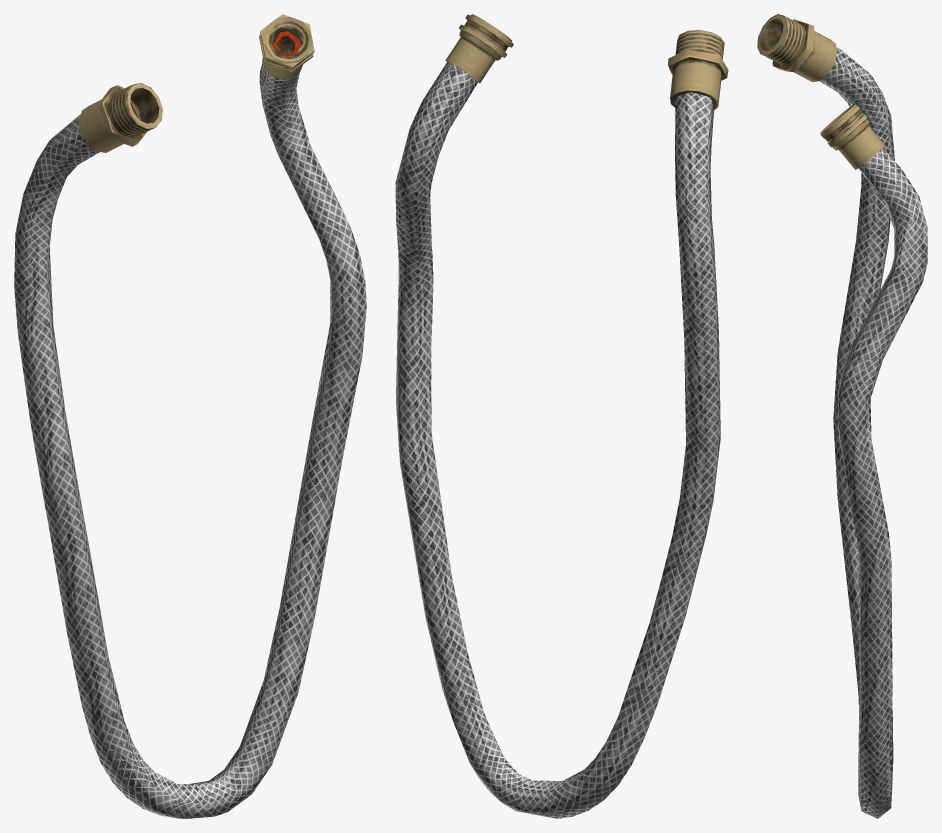
File: hose.worldmodel.glb
3 views of the same model, side by side, from view 1: azimuth 30°, elevation 25°; view 2: azimuth 150°, elevation 25°; view 3: azimuth 270°, elevation 25° (orthographic). The views are drawn at different scales.
Visible parts, largest first — view 1: wm_hose_LOD0; view 2: wm_hose_LOD0; view 3: wm_hose_LOD0.
Part boxes in pixels (x1,y1,x2,y2): wm_hose_LOD0: (14, 14, 366, 818); wm_hose_LOD0: (395, 14, 728, 818); wm_hose_LOD0: (757, 14, 927, 818).
Bounding box in the file's own units: 0.3744 × 0.8468 × 0.1771.
1 material, 1 textured.
